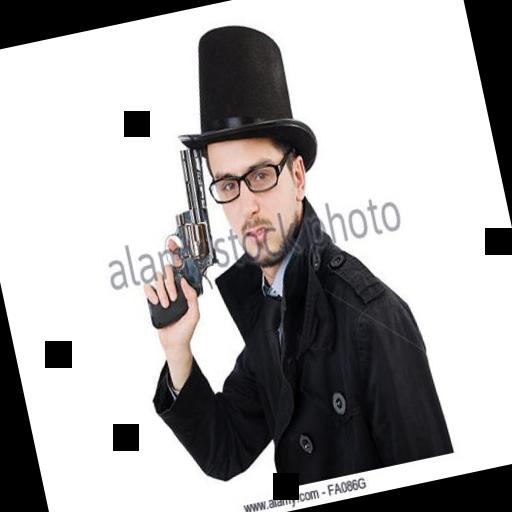Handgun: (114, 144, 234, 328)
